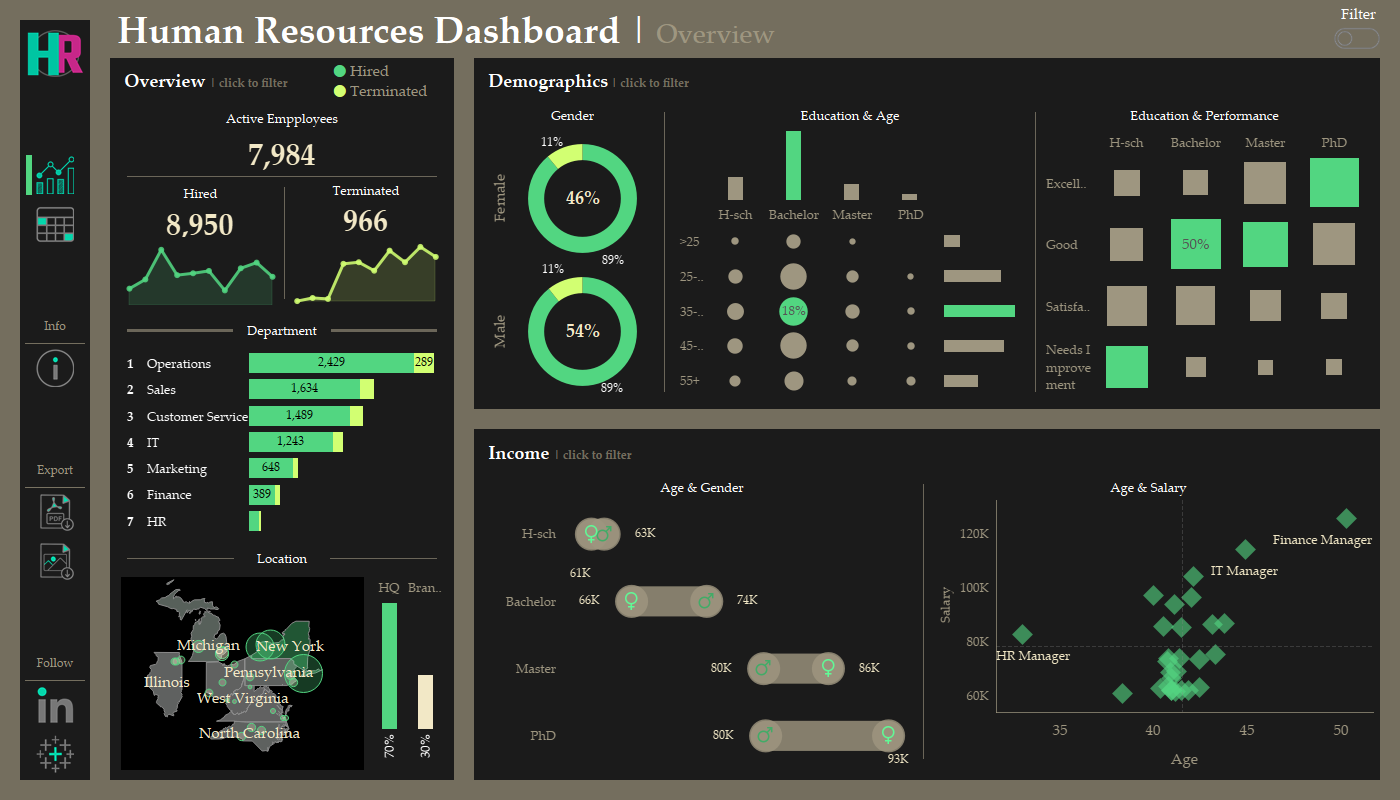

This screenshot's page, from the dashboard's own definition file:
{"tool":"tableau","page":{"name":"HR | Dashboard","canvas":[1400,800],"ordinal":0},"visuals":[{"type":"blank","box":[91,0,1309,251]},{"type":"text","box":[110,0,697,58]},{"type":"blank","box":[807,0,593,58]},{"type":"filter","title":"Gender vs performance","param":"[federated.14v27xn1k8hdcf1fjzytm162q008].[none:Gender:nk]","box":[822,4,124.2,52]},{"type":"filter","title":"Gender vs performance","param":"[federated.14v27xn1k8hdcf1fjzytm162q008].[none:Calculation_1274800174297870336:n","box":[946.2,4,124.2,52]},{"type":"filter","title":"Gender vs performance","param":"[federated.14v27xn1k8hdcf1fjzytm162q008].[none:Calculation_320600001229742080:nk","box":[1070.5,4,124.2,52]},{"type":"filter","title":"Gender vs performance","param":"[federated.14v27xn1k8hdcf1fjzytm162q008].[yr:Hiredate:ok]","box":[1194.7,4,124.2,52]},{"type":"text","box":[1331,8,55,12]},{"type":"dashboard-object","box":[1333,17,47,43]},{"type":"image","param":"Image/Logo.png","box":[20,20,70,66]},{"type":"text","box":[330,60,107,42]},{"type":"text","box":[117,65,330,32]},{"type":"text","box":[481,65,892,32]},{"type":"blank","box":[20,86,70,70]},{"type":"text","box":[117,97,330,37]},{"type":"text","box":[486,102,173,26]},{"type":"blank","box":[664,102,1,300]},{"type":"text","box":[670,102,360,26]},{"type":"blank","box":[1035,102,1,300]},{"type":"text","box":[1036,102,337,26]},{"type":"worksheet","title":"Gender Ratio","mark":"Pie","rows":["Gender"],"cols":["Calculation_320600001235931138","Calculation_320600001235931138"],"box":[486,128,173,274]},{"type":"worksheet","title":"Edu lvl","mark":"Bar","rows":["Calculation_782218962592452608"],"cols":["Education Level"],"box":[670,128,360,72]},{"type":"worksheet","title":"Education vs performance","mark":"Square","rows":["Performance Rating"],"cols":["Education Level"],"box":[1036,128,337,274]},{"type":"worksheet","title":"BAN Active","mark":"Text","box":[117,134,330,42]},{"type":"blank","box":[26,155,6,40]},{"type":"dashboard-object","box":[20,156,70,38]},{"type":"blank","box":[117,176,330,1]},{"type":"text","box":[117,177,167,32]},{"type":"blank","box":[284,177,1,132]},{"type":"text","box":[285,177,162,26]},{"type":"blank","box":[20,194,70,11]},{"type":"worksheet","title":"Age vs Edu lvl","mark":"Circle","rows":["Calculation_320600001239764996"],"cols":["Education Level"],"box":[670,200,274,202]},{"type":"worksheet","title":"Age groups","mark":"Bar","rows":["Calculation_320600001239764996"],"cols":["Calculation_782218962592452608"],"box":[944,200,75,202]},{"type":"worksheet","title":"BAN Terminated","mark":"Text","box":[285,203,162,35]},{"type":"dashboard-object","box":[20,205,70,38]},{"type":"worksheet","title":"BAN Hired","mark":"Text","box":[117,209,167,32]},{"type":"worksheet","title":"Terminated by year","mark":"Line","rows":["Calculation_782218962592579585","Calculation_782218962592579585"],"cols":["Termdate"],"box":[285,238,162,71]},{"type":"worksheet","title":"HIred by year","mark":"Line","rows":["Calculation_782218962592452608","Calculation_782218962592452608"],"cols":["Hiredate"],"box":[117,241,167,68]},{"type":"blank","box":[20,243,70,70]},{"type":"text","box":[91,251,1309,344]},{"type":"text","box":[20,313,70,25]},{"type":"blank","box":[127,314,106,32]},{"type":"text","box":[233,314,98,32]},{"type":"blank","box":[331,314,106,32]},{"type":"blank","box":[20,338,70,11]},{"type":"worksheet","title":"Departments","mark":"Bar","rows":["Calculation_782218962599727108","Department"],"cols":["Calculation_782218962592452608"],"box":[117,346,330,192]},{"type":"dashboard-object","box":[20,349,70,38]},{"type":"blank","box":[20,387,70,70]},{"type":"text","box":[481,436,892,33]},{"type":"text","box":[20,457,70,25]},{"type":"text","box":[481,474,442,26]},{"type":"blank","box":[923,474,1,295]},{"type":"text","box":[924,474,449,26]},{"type":"blank","box":[20,482,70,11]},{"type":"dashboard-object","box":[20,493,70,38]},{"type":"worksheet","title":"Gender vs performance","mark":"Square","rows":["Education Level"],"cols":["Salary","Salary"],"box":[481,500,442,269]},{"type":"worksheet","title":"Age vs Salary","mark":"Shape","rows":["Salary"],"cols":["Calculation_320600001238269955"],"box":[924,500,449,269]},{"type":"blank","box":[20,531,70,11]},{"type":"dashboard-object","box":[20,542,70,38]},{"type":"blank","box":[127,543,107.3,30]},{"type":"text","box":[234.3,543,95.3,30]},{"type":"blank","box":[329.6,543,107.3,30]},{"type":"worksheet","title":"Maps States","mark":"Automatic","box":[117,573,250,200]},{"type":"worksheet","title":"Location","mark":"Bar","rows":["Calculation_782218962592452608"],"cols":["Calculation_320600001229742080","Calculation1"],"box":[367,573,80,200]},{"type":"blank","box":[20,580,70,70]},{"type":"blank","box":[91,595,1309,205]},{"type":"text","box":[20,650,70,25]},{"type":"blank","box":[20,675,70,11]},{"type":"image","param":"Image/contact-linkedin.png","box":[20,686,70,38]},{"type":"blank","box":[20,724,70,11]},{"type":"image","param":"Image/contact-public.png","box":[20,735,70,38]}]}

Visuals, with their boxes on the page's 1400x800 design canvas (x1, y1, x2, y2). These are canvas units, not pixel positions in the 1400x800 screenshot, which may show the page scaled, cropped or inside an application window:
blank: [91,0,1400,251]
text: [110,0,807,58]
blank: [807,0,1400,58]
"Gender vs performance" filter: [822,4,946,56]
"Gender vs performance" filter: [946,4,1070,56]
"Gender vs performance" filter: [1070,4,1195,56]
"Gender vs performance" filter: [1195,4,1319,56]
text: [1331,8,1386,20]
dashboard-object: [1333,17,1380,60]
image: [20,20,90,86]
text: [330,60,437,102]
text: [117,65,447,97]
text: [481,65,1373,97]
blank: [20,86,90,156]
text: [117,97,447,134]
text: [486,102,659,128]
blank: [664,102,665,402]
text: [670,102,1030,128]
blank: [1035,102,1036,402]
text: [1036,102,1373,128]
"Gender Ratio" worksheet (Pie marks): [486,128,659,402]
"Edu lvl" worksheet (Bar marks): [670,128,1030,200]
"Education vs performance" worksheet (Square marks): [1036,128,1373,402]
"BAN Active" worksheet (Text marks): [117,134,447,176]
blank: [26,155,32,195]
dashboard-object: [20,156,90,194]
blank: [117,176,447,177]
text: [117,177,284,209]
blank: [284,177,285,309]
text: [285,177,447,203]
blank: [20,194,90,205]
"Age vs Edu lvl" worksheet (Circle marks): [670,200,944,402]
"Age groups" worksheet (Bar marks): [944,200,1019,402]
"BAN Terminated" worksheet (Text marks): [285,203,447,238]
dashboard-object: [20,205,90,243]
"BAN Hired" worksheet (Text marks): [117,209,284,241]
"Terminated by year" worksheet (Line marks): [285,238,447,309]
"HIred by year" worksheet (Line marks): [117,241,284,309]
blank: [20,243,90,313]
text: [91,251,1400,595]
text: [20,313,90,338]
blank: [127,314,233,346]
text: [233,314,331,346]
blank: [331,314,437,346]
blank: [20,338,90,349]
"Departments" worksheet (Bar marks): [117,346,447,538]
dashboard-object: [20,349,90,387]
blank: [20,387,90,457]
text: [481,436,1373,469]
text: [20,457,90,482]
text: [481,474,923,500]
blank: [923,474,924,769]
text: [924,474,1373,500]
blank: [20,482,90,493]
dashboard-object: [20,493,90,531]
"Gender vs performance" worksheet (Square marks): [481,500,923,769]
"Age vs Salary" worksheet (Shape marks): [924,500,1373,769]
blank: [20,531,90,542]
dashboard-object: [20,542,90,580]
blank: [127,543,234,573]
text: [234,543,330,573]
blank: [330,543,437,573]
"Maps States" worksheet: [117,573,367,773]
"Location" worksheet (Bar marks): [367,573,447,773]
blank: [20,580,90,650]
blank: [91,595,1400,800]
text: [20,650,90,675]
blank: [20,675,90,686]
image: [20,686,90,724]
blank: [20,724,90,735]
image: [20,735,90,773]
